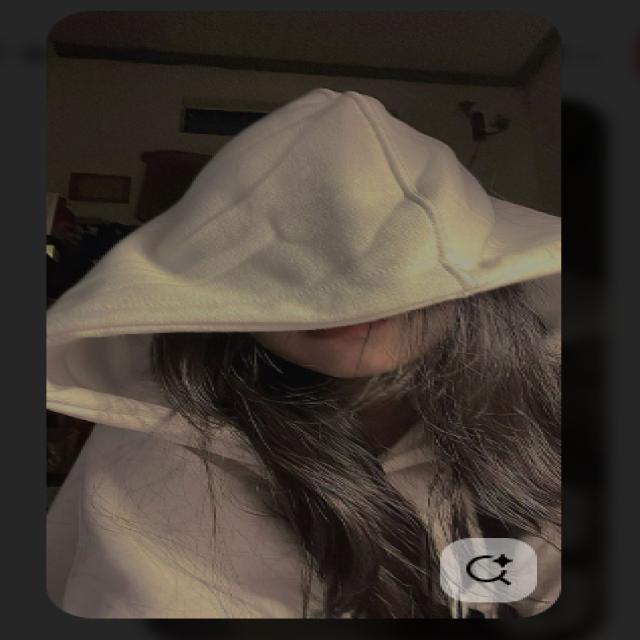4_capucha: (50, 89, 568, 450)
